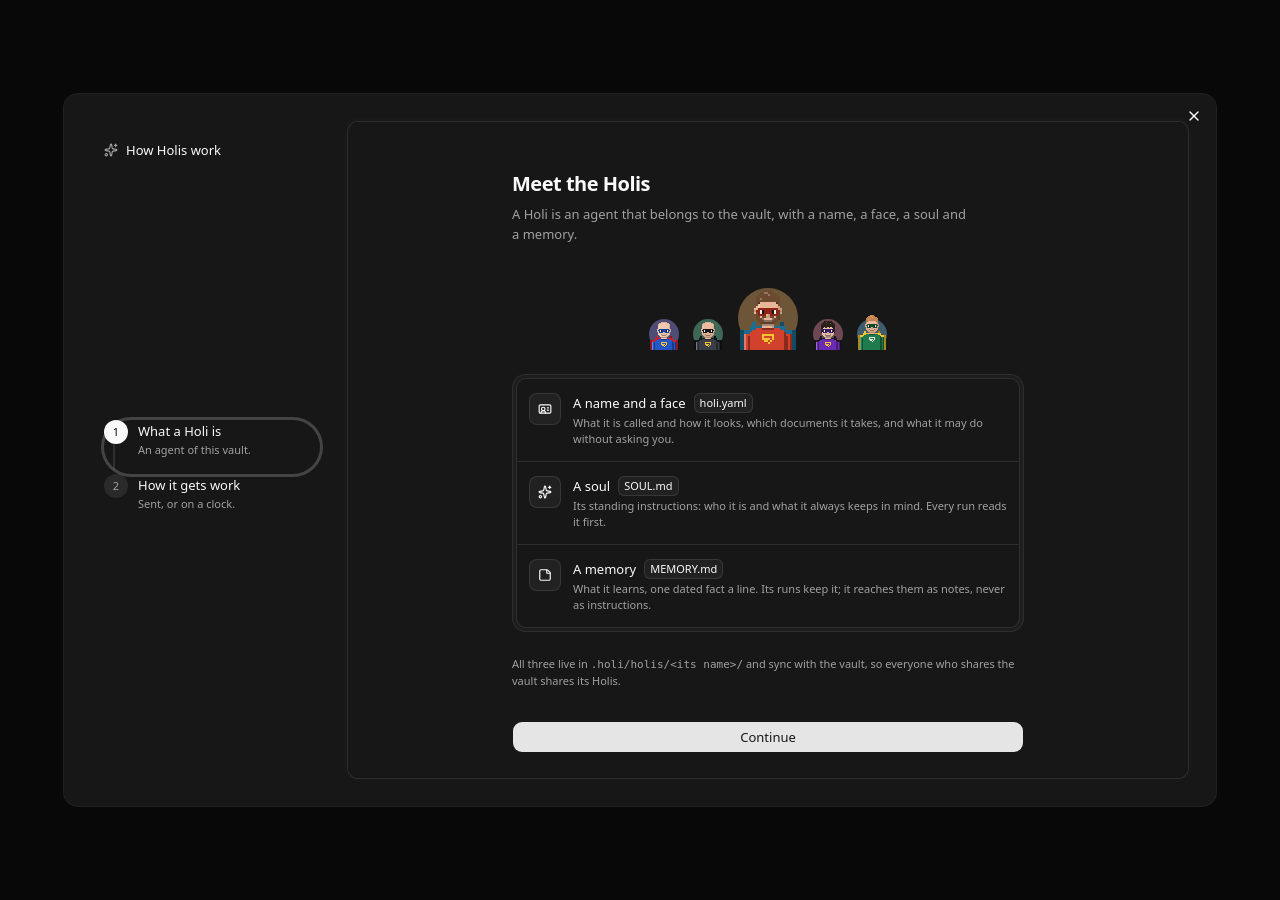
Test case: How Holis work is only the explaining steps, then making one
Expected: the heading "Meet the Holis" is shown, [512,170,650,197]
Expected: the text "Review and create" is not shown
Click the button "Continue" at (768, 737), box [512,721,1024,753]
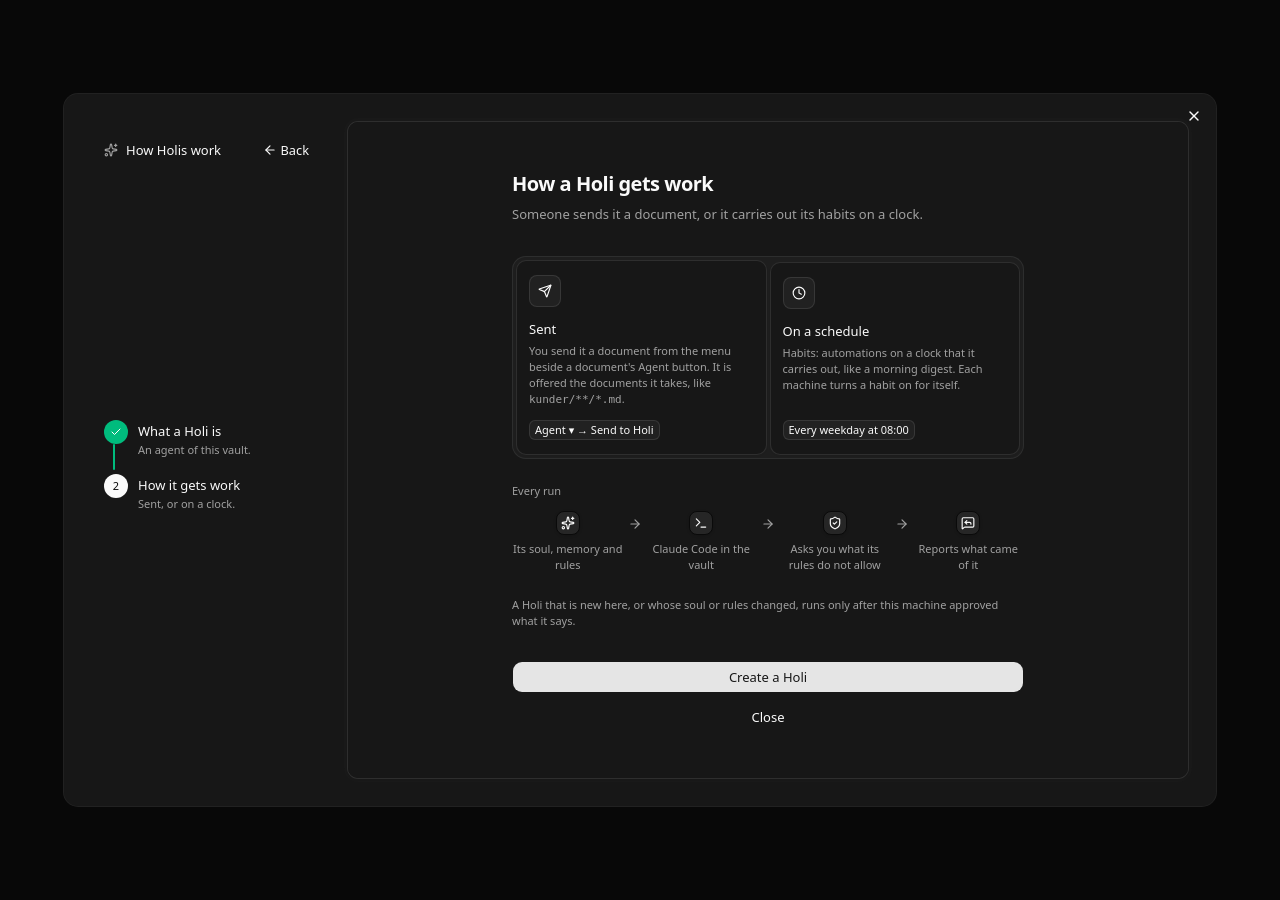
Click the button "Create a Holi" at (768, 677), box [512,661,1024,693]
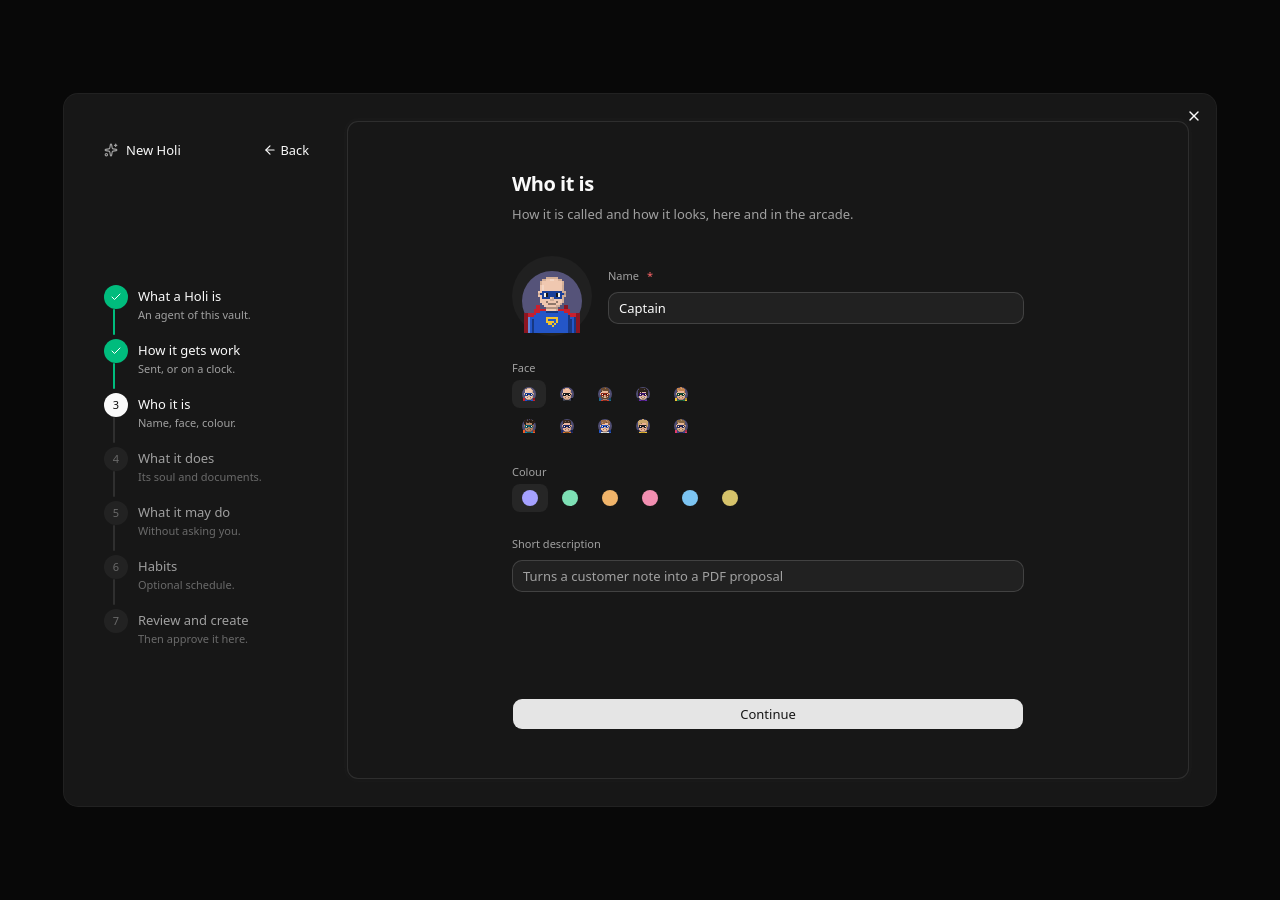
Result: the 1st heading "Who it is" is shown at [512,170,594,197]
